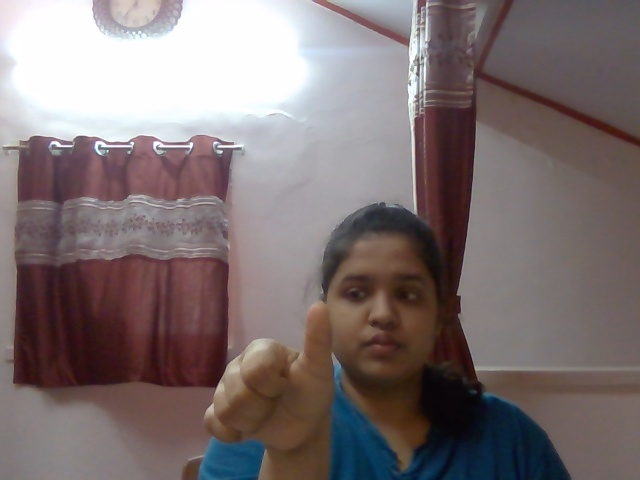j: (184, 305, 353, 456)
